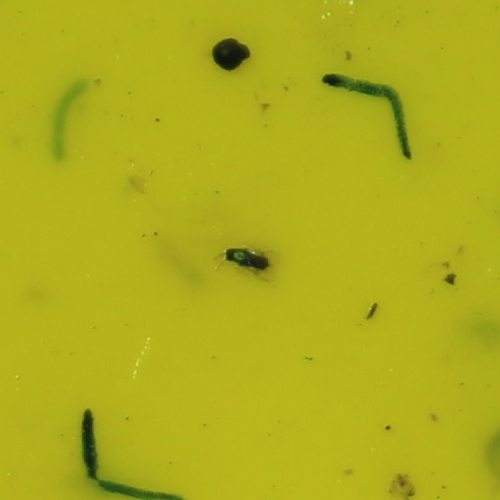Psyllaephagus: (221, 243, 274, 273)
